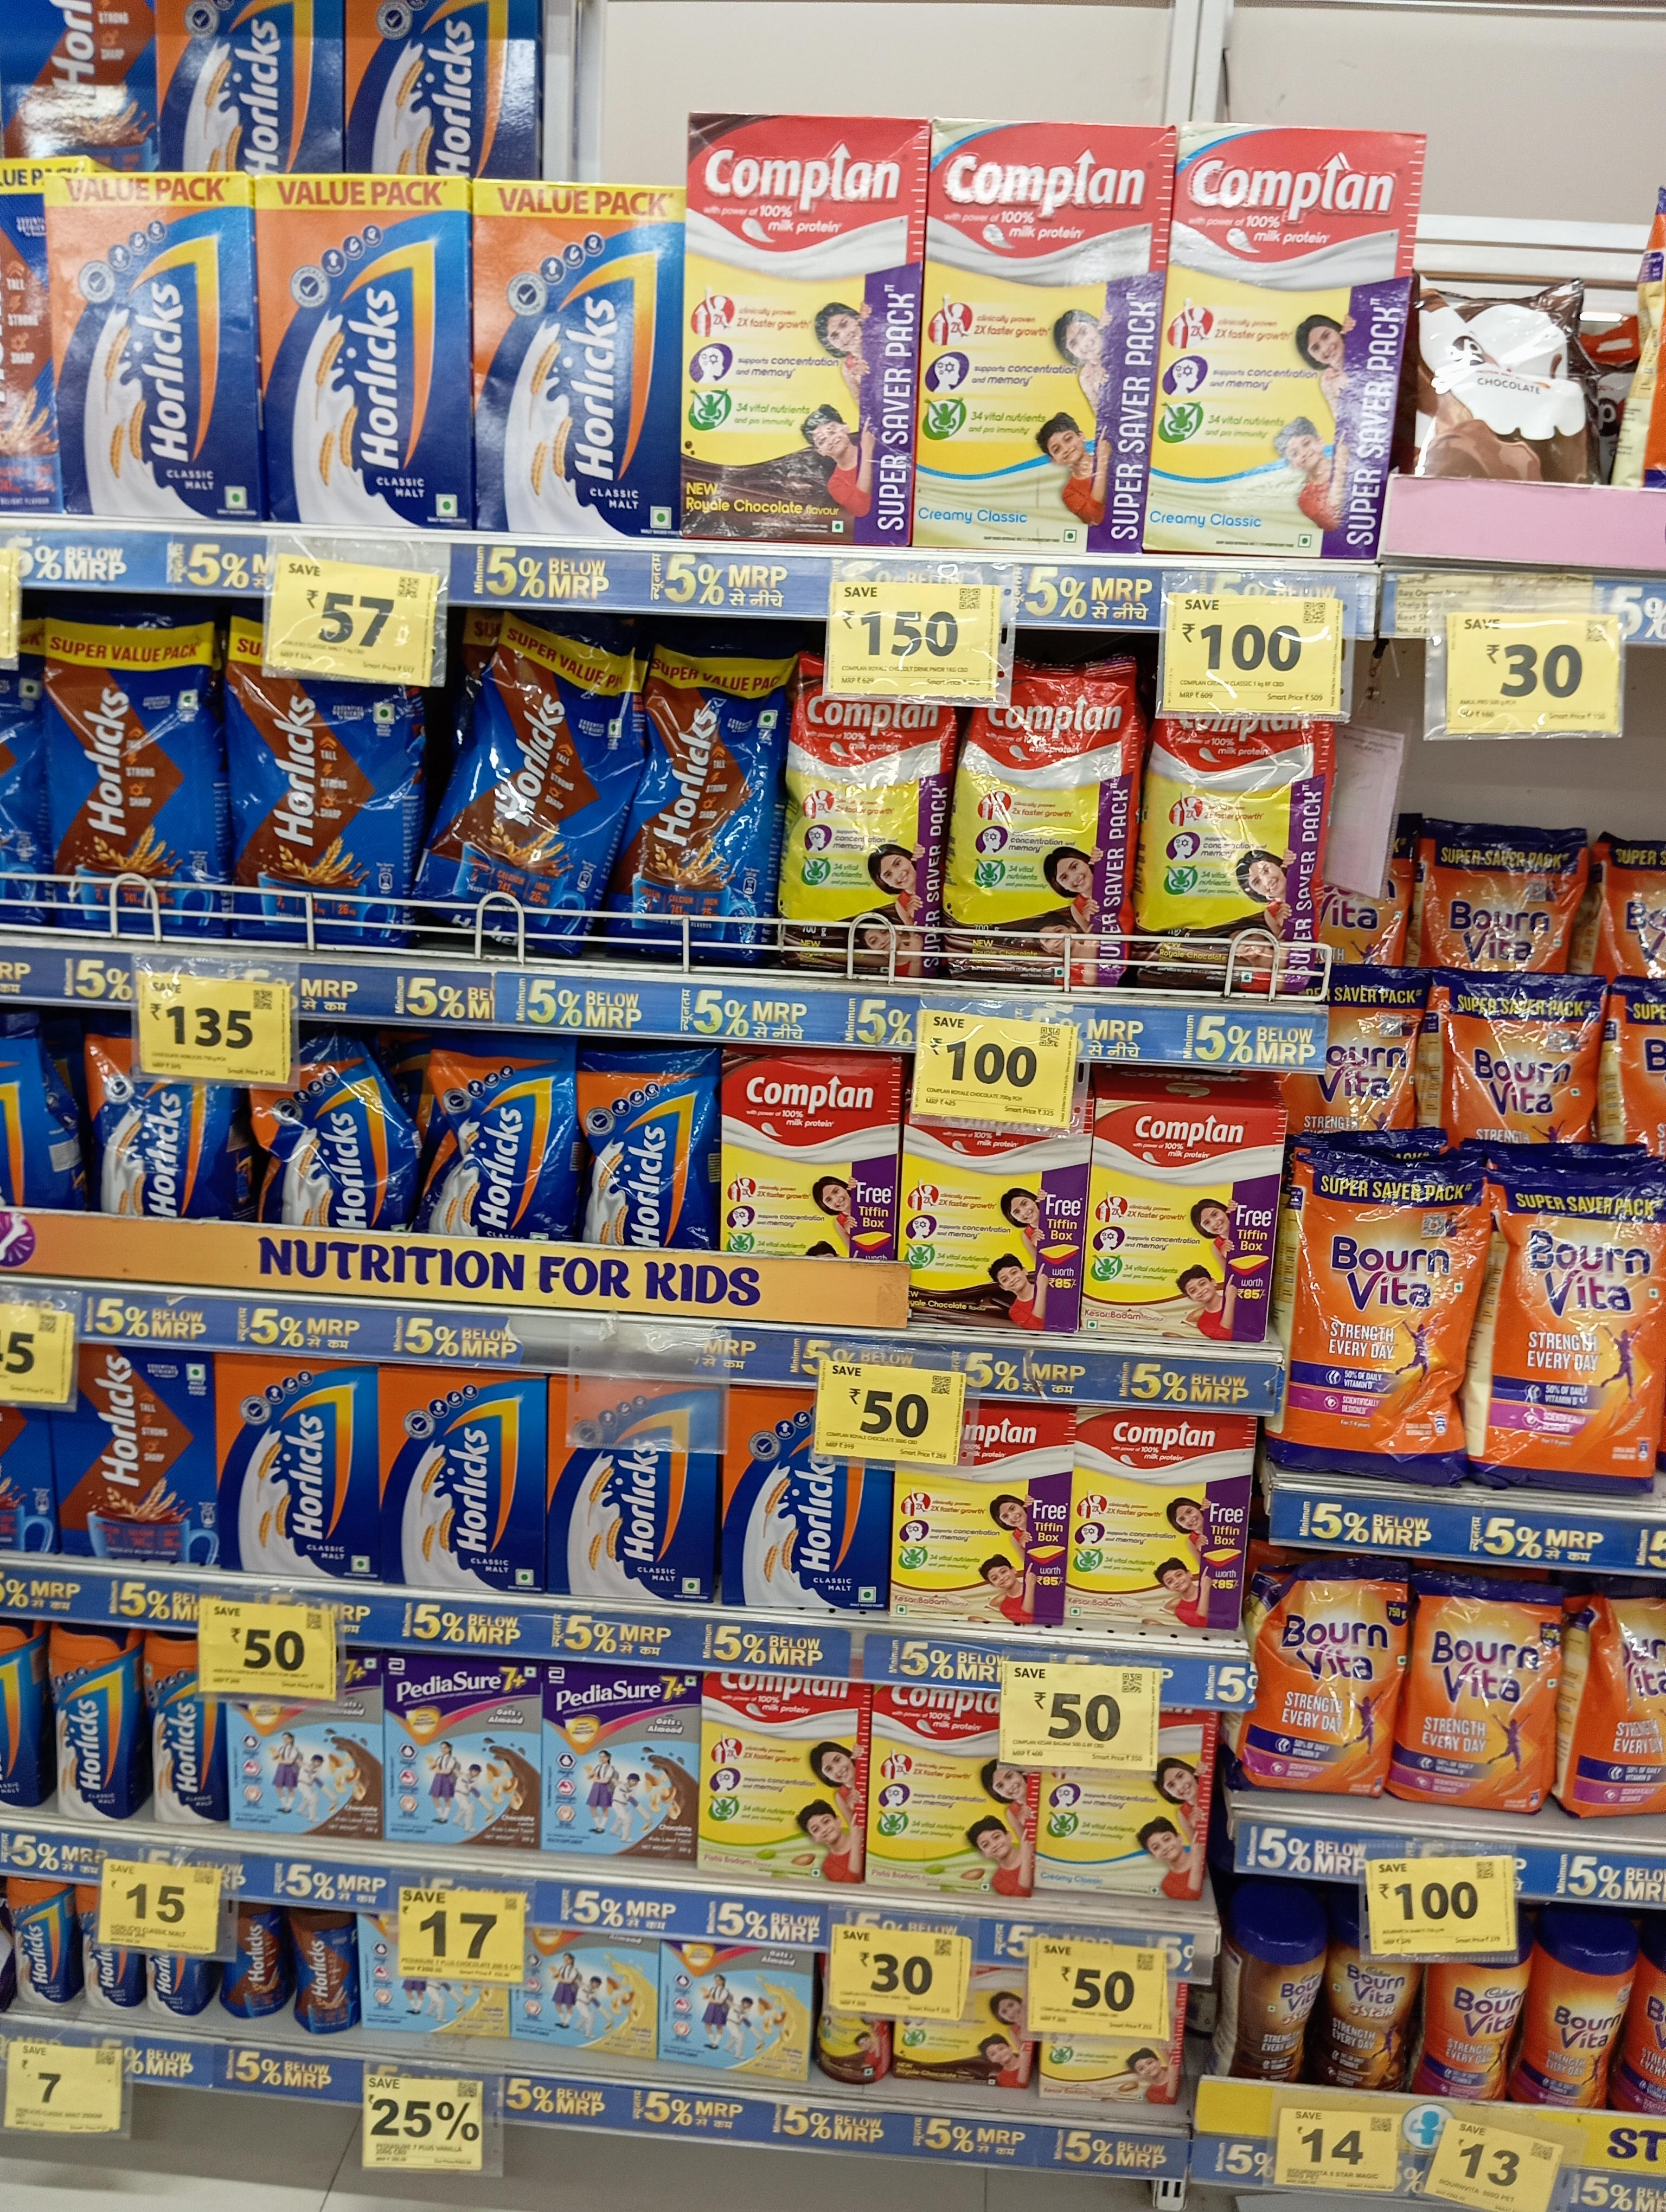BOURN_VITA_1_KG_POUCH: (1286, 1145, 1466, 1483), (1489, 1179, 1666, 1493)
BOURN_VITA_750_G_POUCH: (1409, 1562, 1556, 1815), (1253, 1579, 1400, 1803)
BOURN_VITA_FIVE_STAR_MAGIC_500_G_JAR: (1232, 1904, 1321, 2084), (1328, 1941, 1405, 2088)
COMPLAN_CHOCOLATE_1_KG_PACK: (688, 110, 914, 547)
COMPLAN_RC_POUCH_700_GMS_12: (957, 703, 1136, 976), (1148, 713, 1314, 991), (784, 703, 947, 974)
HORLICK_CHOCOLATE_750_G_POUCH: (51, 623, 221, 932), (231, 671, 406, 948), (628, 635, 770, 951), (467, 630, 595, 946)
